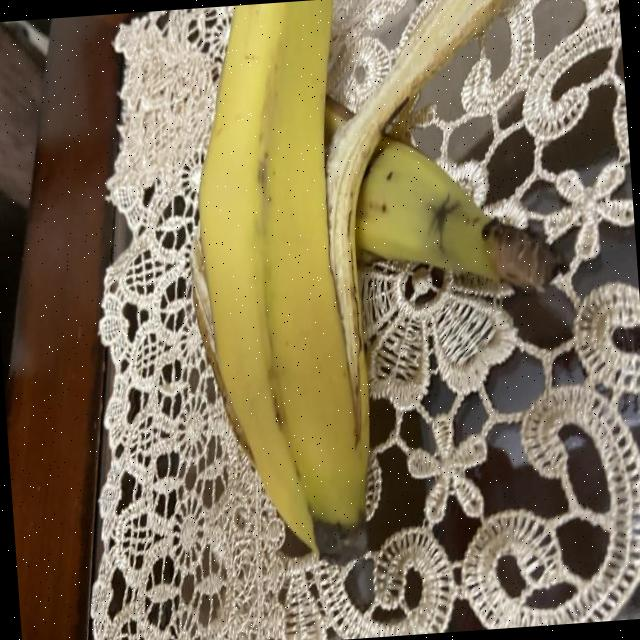banana-peel: (170, 0, 576, 566), (173, 0, 381, 565)
